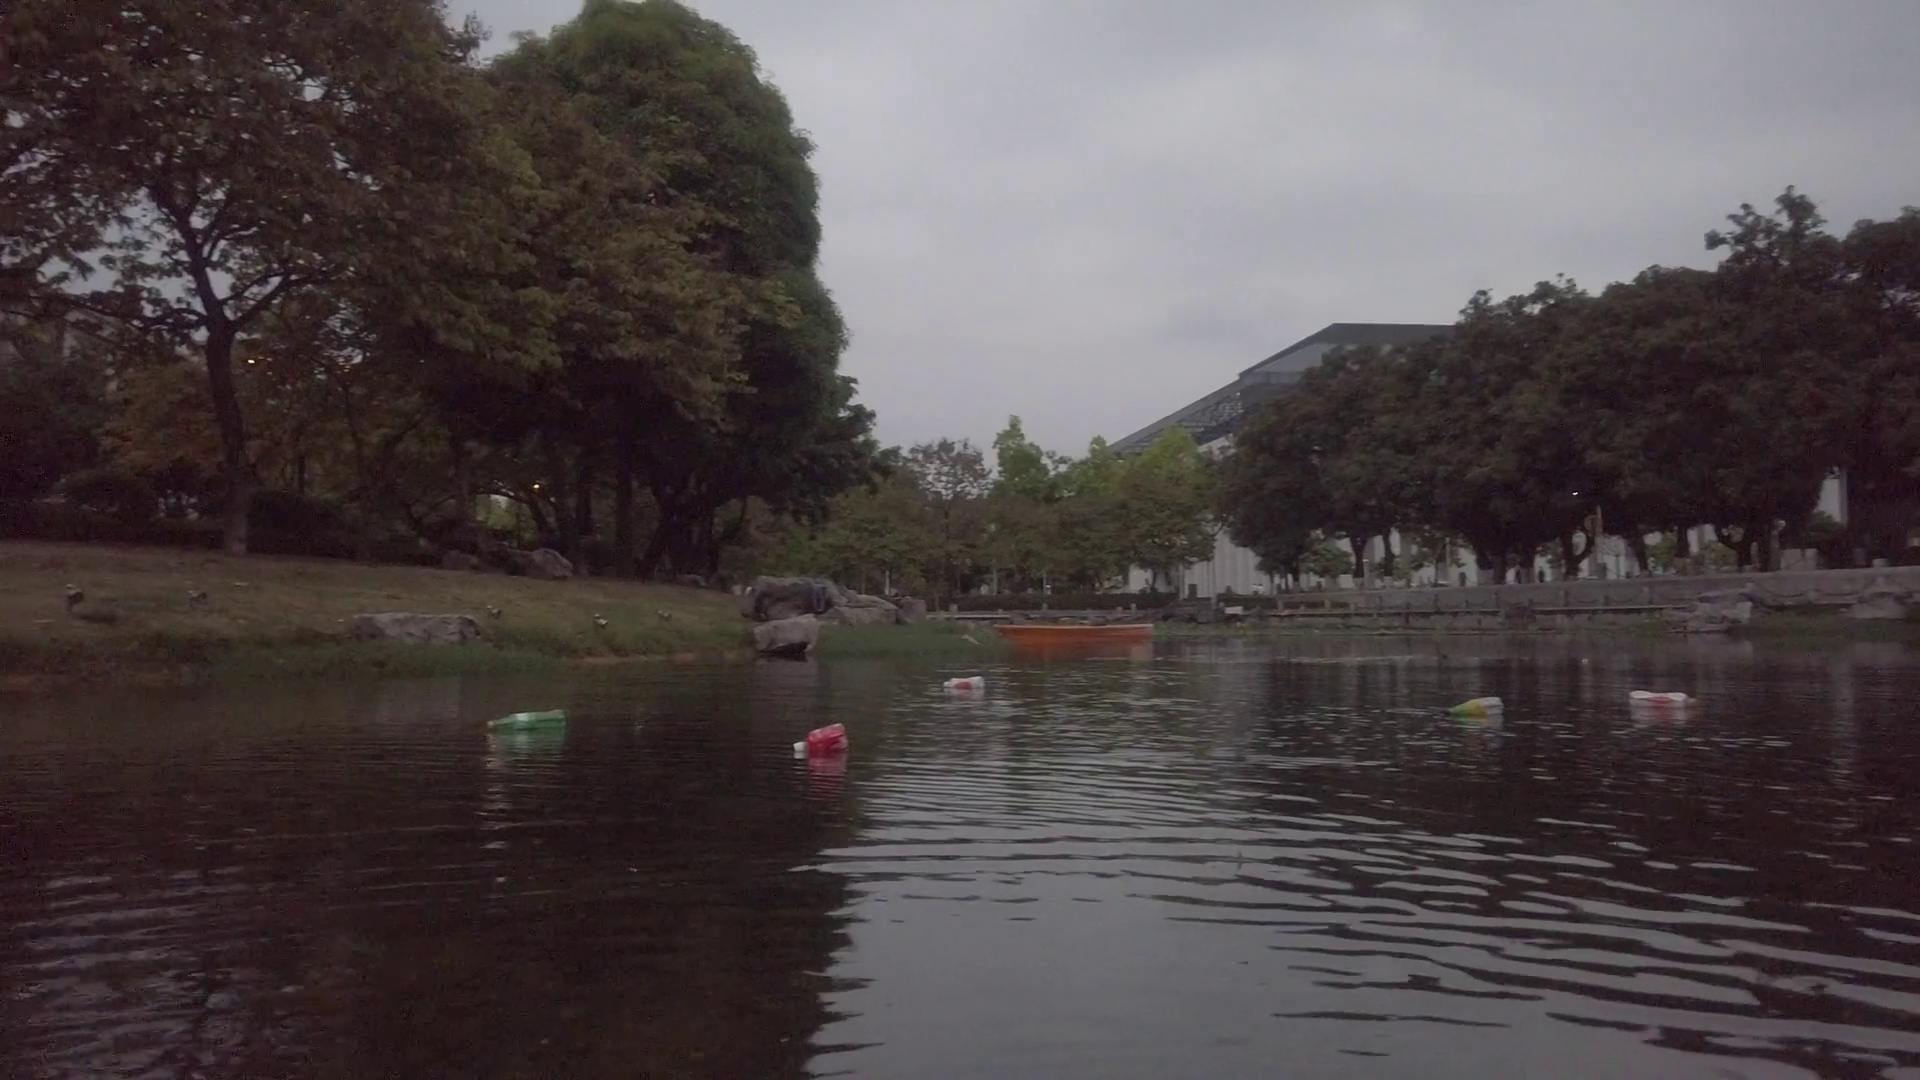bottle: (793, 723, 851, 756), (487, 709, 571, 731), (1629, 688, 1697, 709), (1443, 698, 1506, 719), (943, 673, 982, 691)
